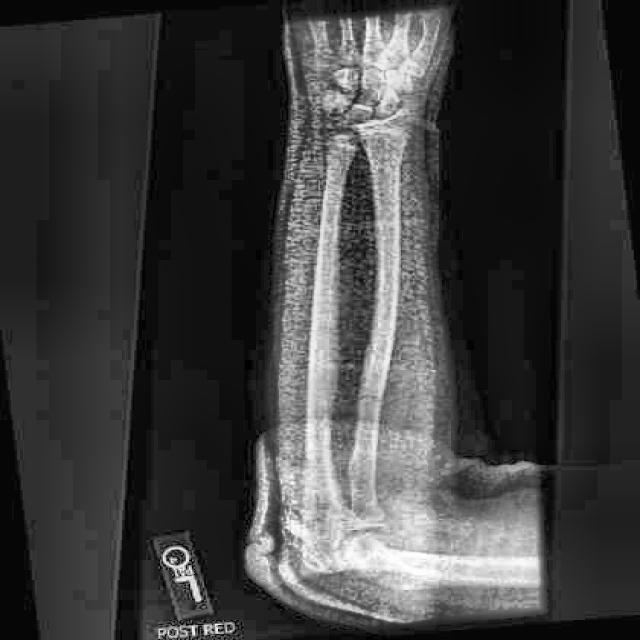elbow positive: (297, 544, 351, 583)
